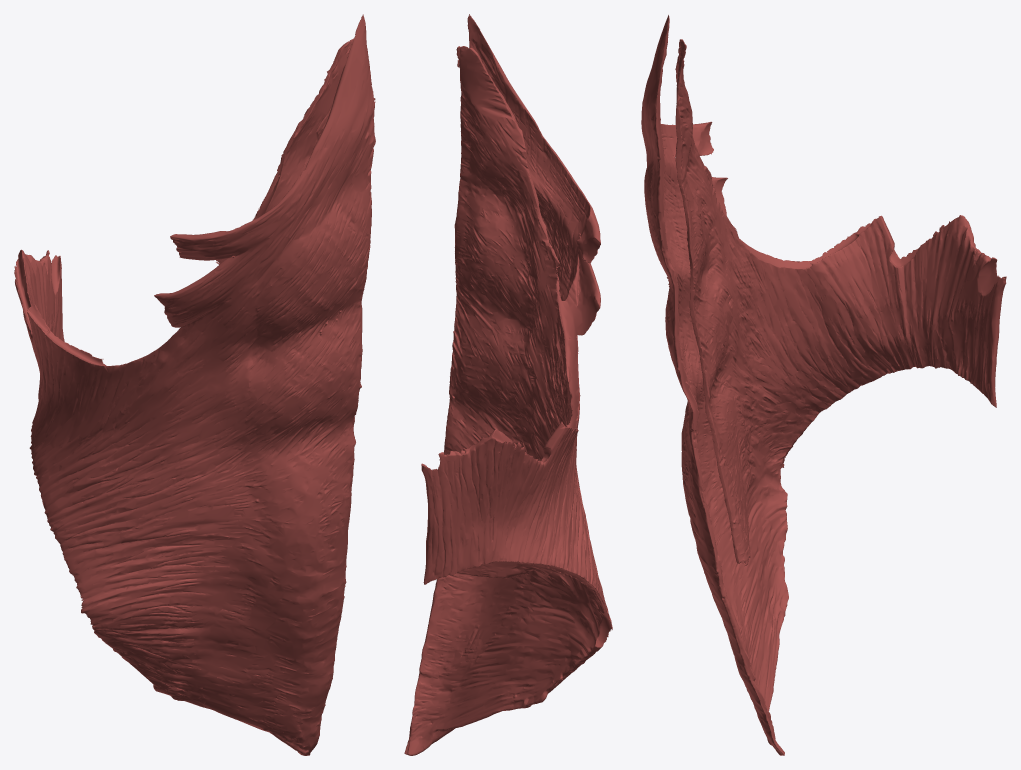
The model's file is FMA13892.glb.
The picture shows the model from 3 angles, left to right: view 1: azimuth 30°, elevation 25°; view 2: azimuth 150°, elevation 25°; view 3: azimuth 270°, elevation 25°; orthographic projection. The views are drawn at different scales.
Parts seen in each view (by area): view 1: FMA13892; view 2: FMA13892; view 3: FMA13892.
Boxes of the visible parts, x1=… form: FMA13892: x1=14, y1=14, x2=375, y2=755; FMA13892: x1=404, y1=14, x2=612, y2=755; FMA13892: x1=641, y1=15, x2=1006, y2=755.
Size of the model in its own units: 0.1205 by 0.3792 by 0.17.
